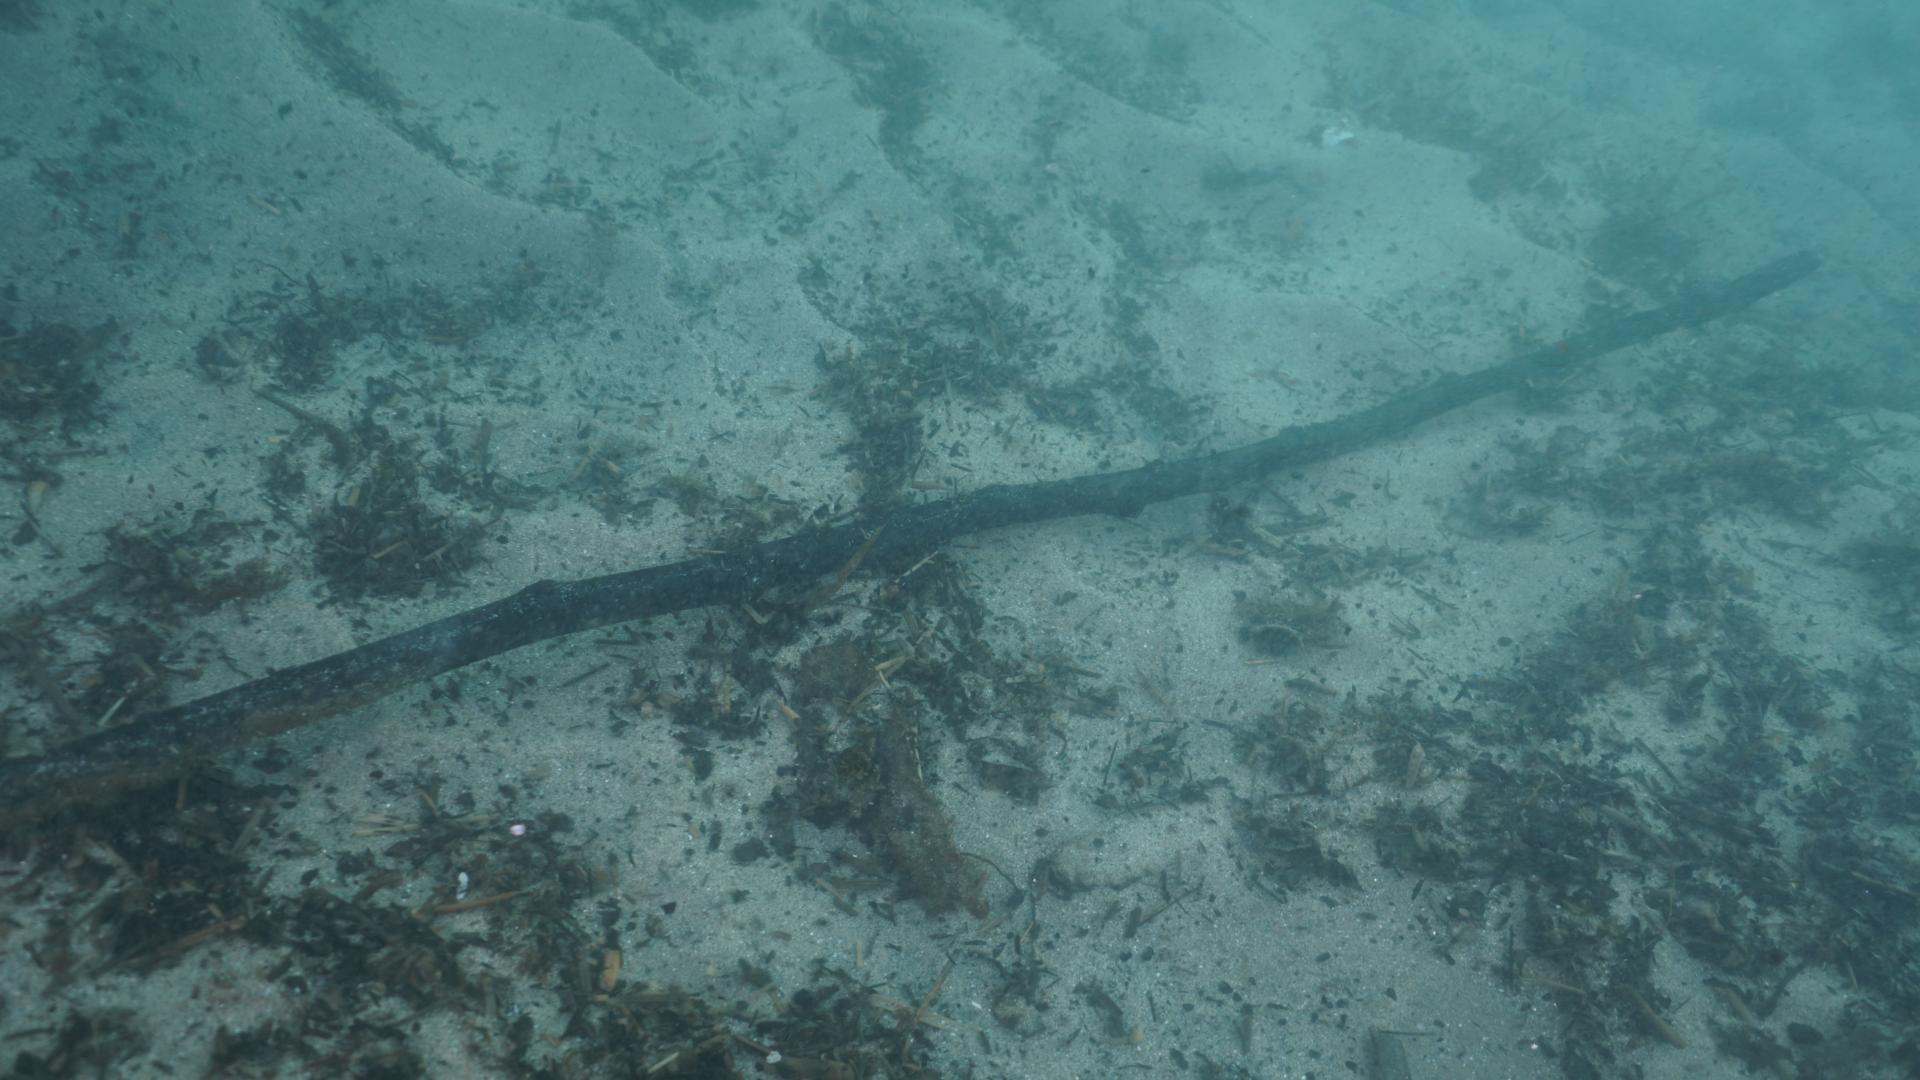wood: (0, 252, 1820, 833)
